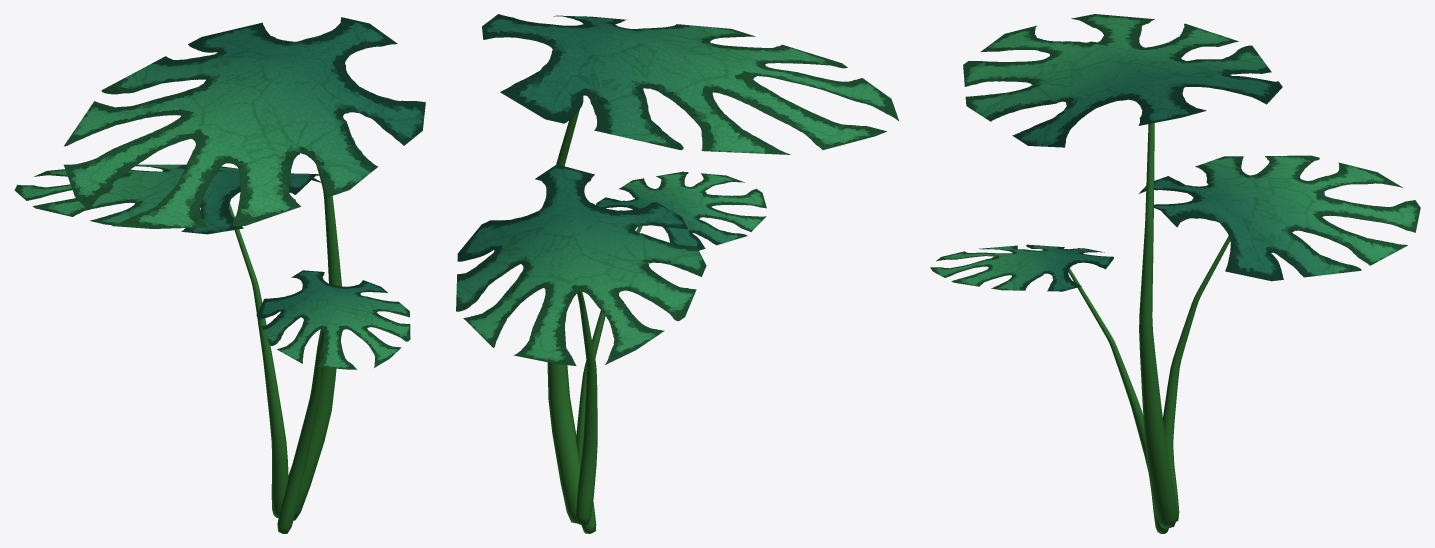
File: JunglePlant.fbx
The picture shows the model from 3 angles, left to right: view 1: azimuth 30°, elevation 25°; view 2: azimuth 150°, elevation 25°; view 3: azimuth 270°, elevation 25°; orthographic projection. The views are drawn at different scales.
Parts seen in each view (by area): view 1: JunglePant; view 2: JunglePant; view 3: JunglePant.
Part boxes in pixels (left/top/right/bottom): JunglePant: left=14, top=17, right=425, bottom=533; JunglePant: left=456, top=14, right=898, bottom=533; JunglePant: left=930, top=14, right=1420, bottom=533.
Size of the model in its own units: 78.07 by 103 by 99.88.
